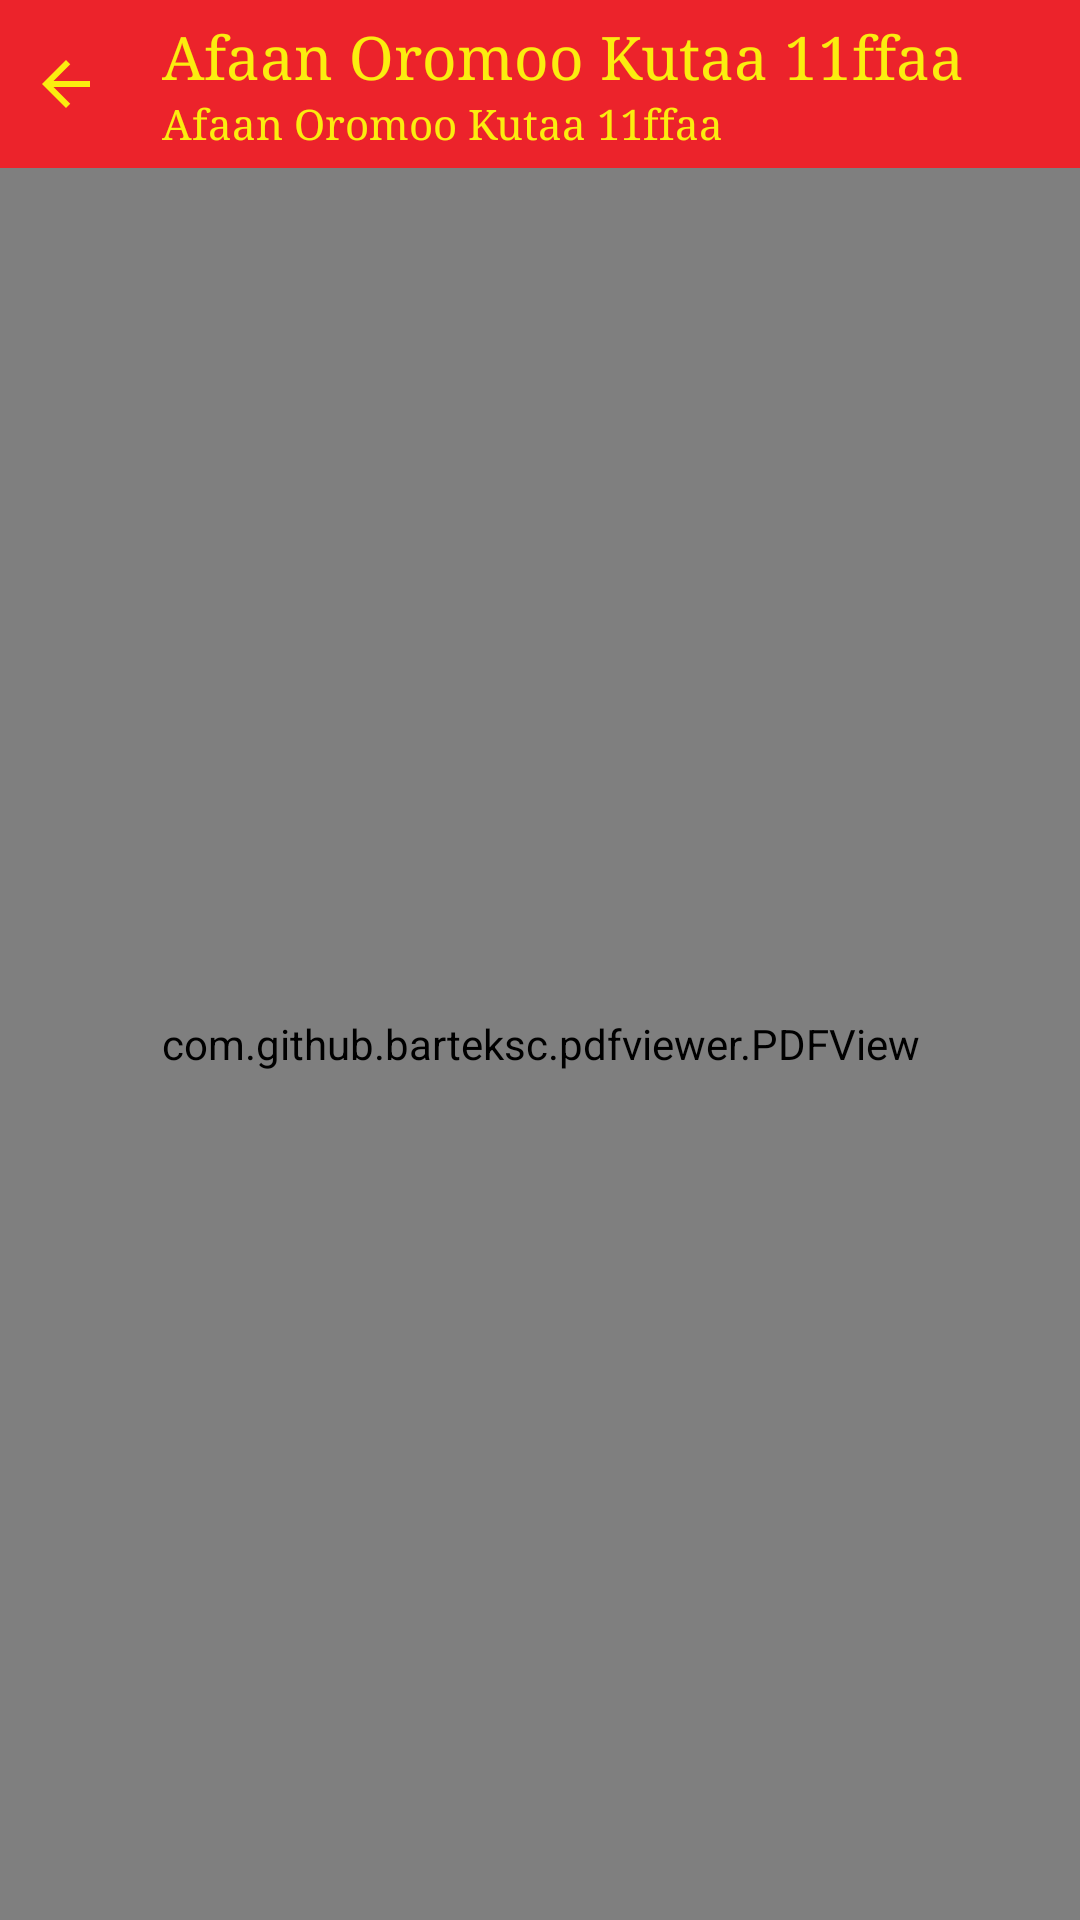

Where to tap for icons on this 1080w x 1920h app screen, as point (x, y):
arrow back: point (66, 84)
